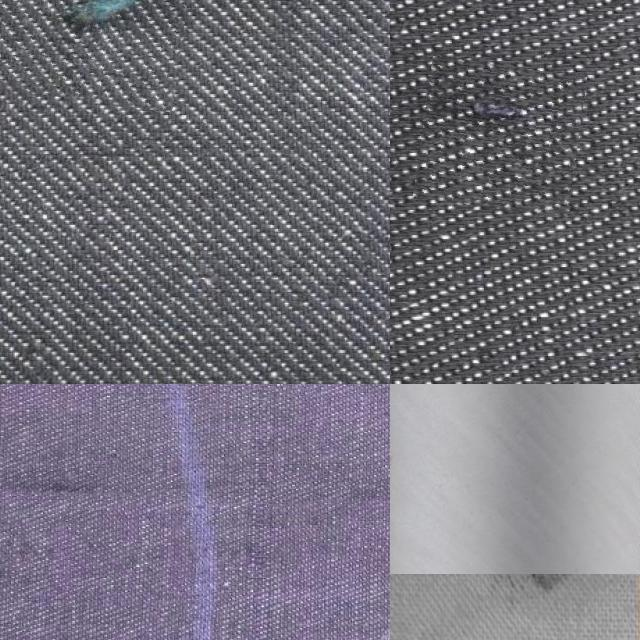Thread_other: (390, 384, 433, 574), (487, 574, 604, 626)
stains: (417, 61, 581, 214)
